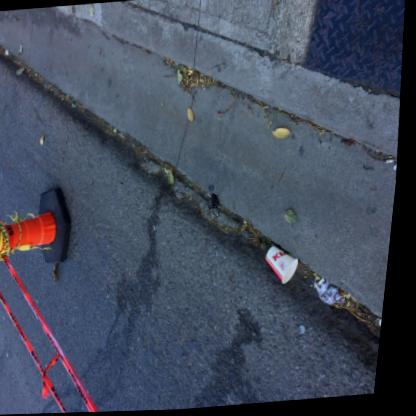Metal: (306, 326, 311, 335)
Paper: (270, 247, 302, 285), (318, 282, 351, 307)
Waste: (323, 280, 330, 288)
